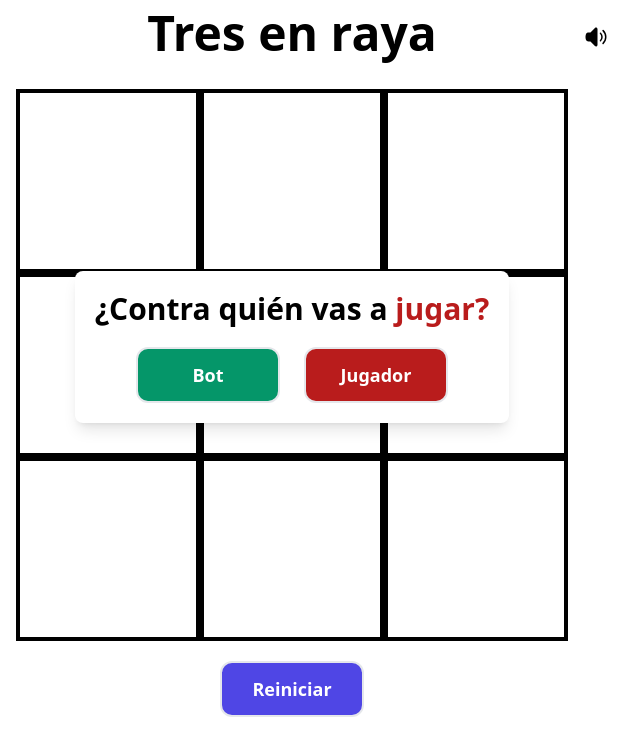
it: The modal component is render › The bot button will be open the difficulty modal
(page scrolled)
What coordinates should you click on to do the following:
click the button "Bot"
I would click on:
 (208, 375)
Its box is [136,347,280,403].
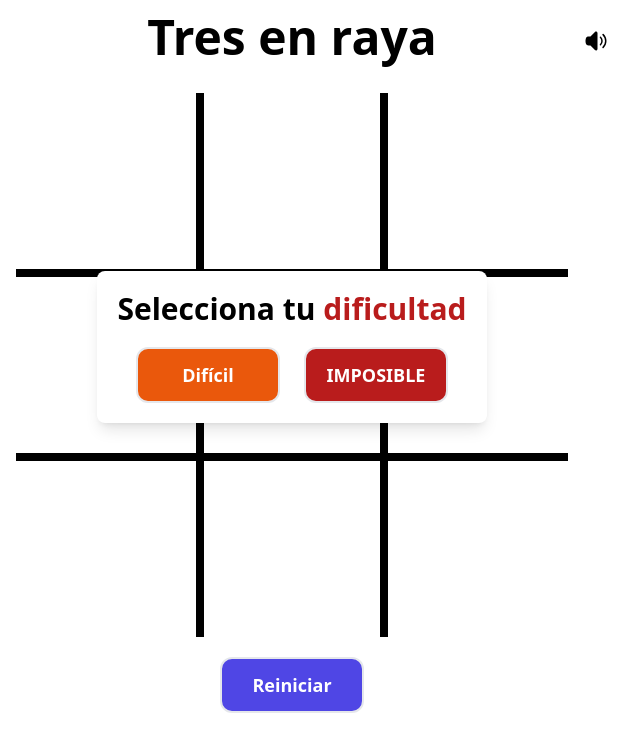
Expected: the button "Difícil" is shown, [136,347,280,403]
